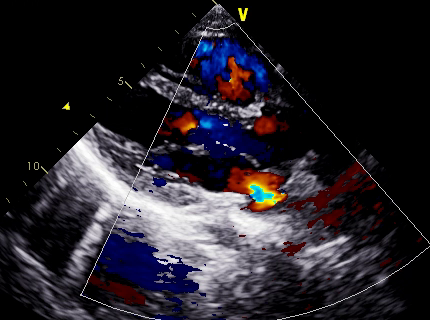AR: (174, 108, 218, 145)
